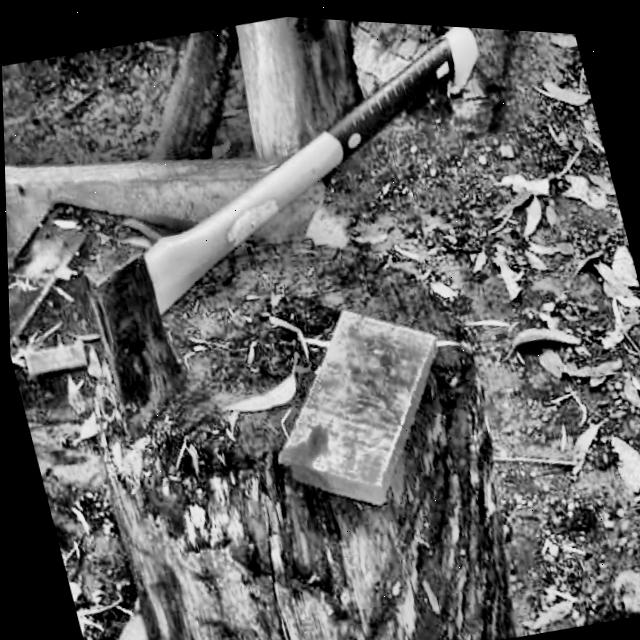kapak: (72, 26, 489, 448)
